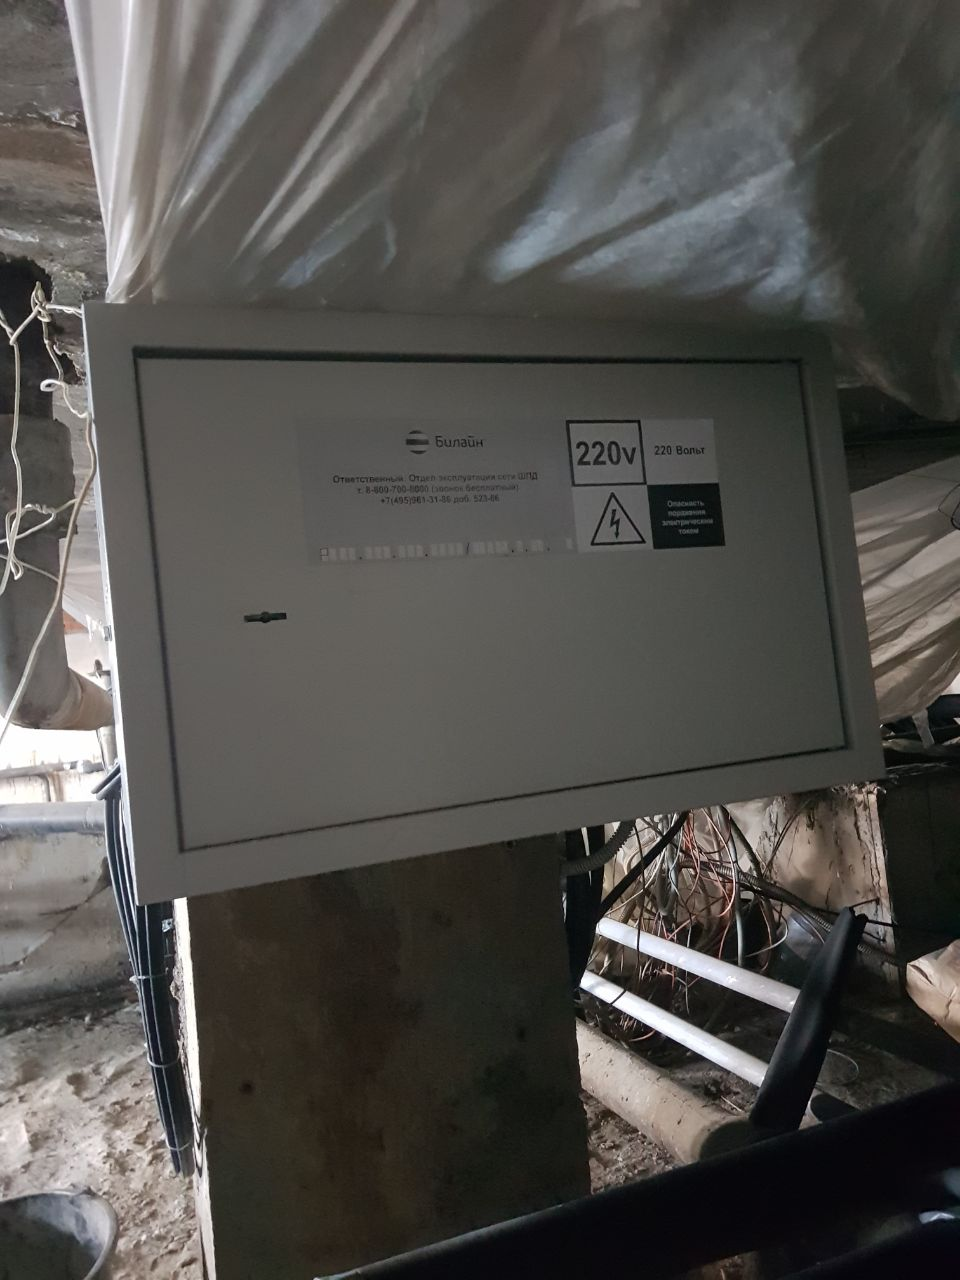shta-7m: (77, 299, 893, 906)
